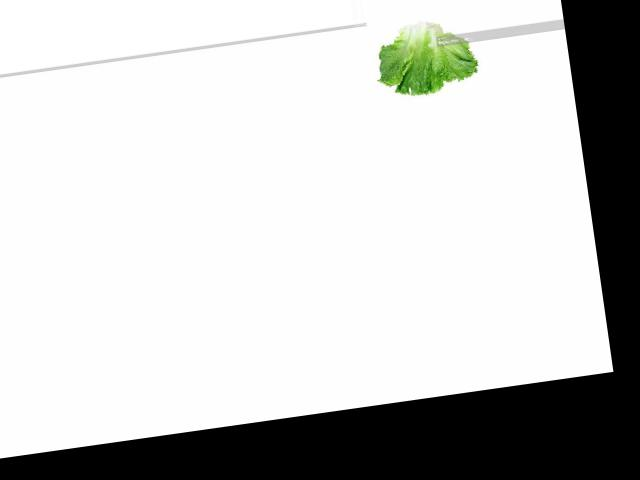lettuce: (372, 14, 477, 99)
